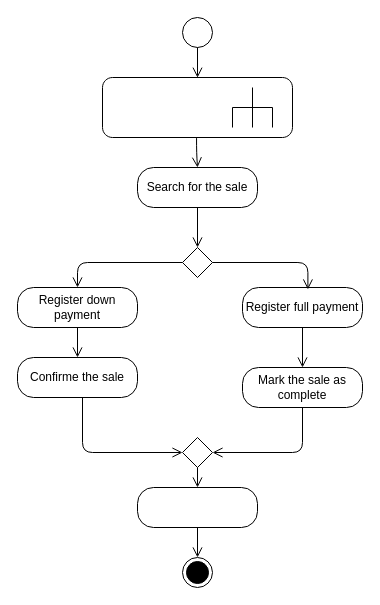
This 380x605 diagram has some shape labels left out. The centre of each missing label's shape, as x and y in pixels:
Login: (x=197, y=107)
Send ntification email to the clent: (x=197, y=507)
